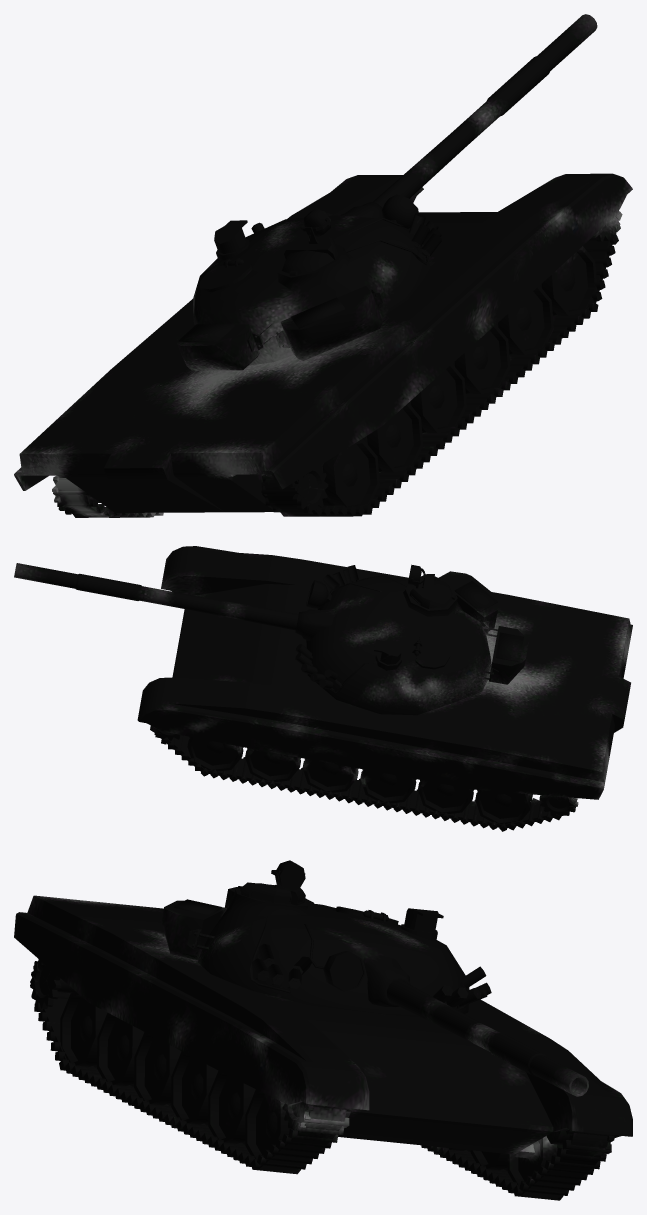
The model's file is tank .glb.
3 views of the same model, one above another, from view 1: azimuth 30°, elevation 25°; view 2: azimuth 150°, elevation 25°; view 3: azimuth 270°, elevation 25° (orthographic). The views are drawn at different scales.
Visible parts, largest first — view 1: node_id27; view 2: node_id27; view 3: node_id27.
Part boxes in pixels (left/top/right/bottom): node_id27: left=14, top=14, right=632, bottom=517; node_id27: left=14, top=546, right=632, bottom=831; node_id27: left=14, top=860, right=632, bottom=1200.
Size of the model in its own units: 2406 by 987 by 1716.
Materials: 1 (1 with a texture image).
